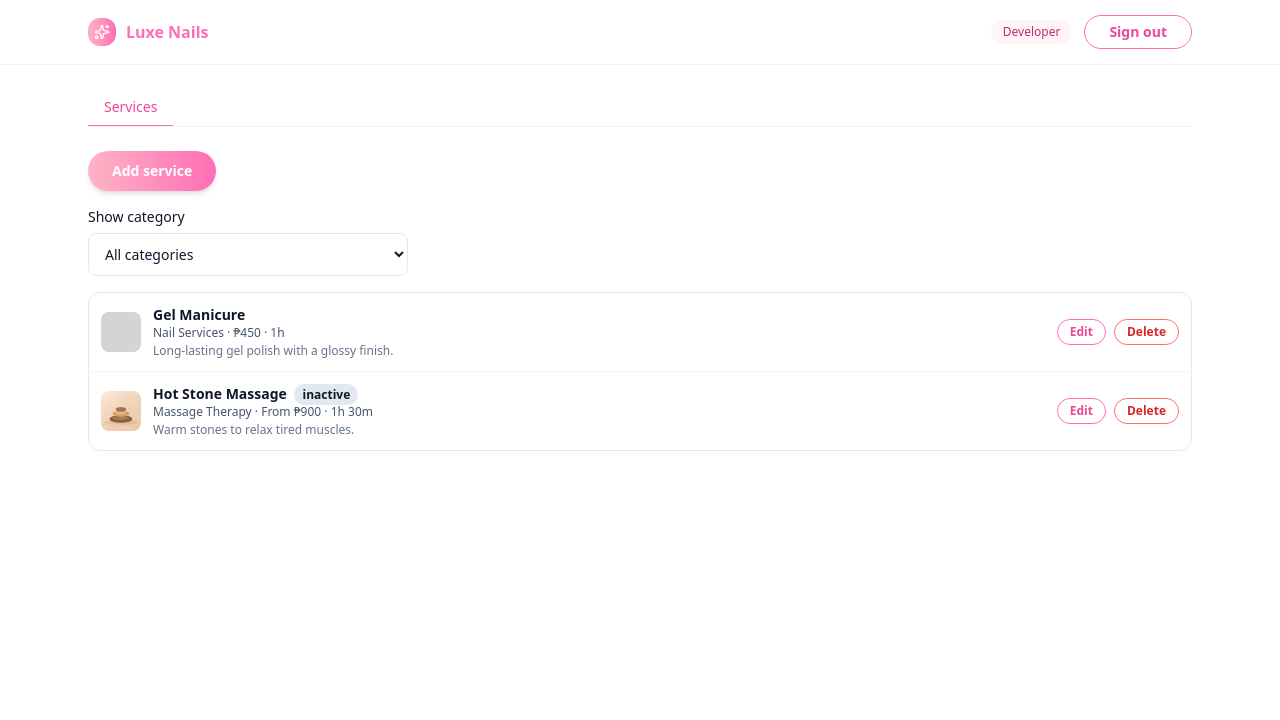
Scenario: developer › has Add, Edit and Delete, and the existing upload form
The image size is (1280, 720).
Expected: the text "Gel Manicure" is shown, [153,305,245,324]
Expected: the button "Add service" is shown, [88,151,216,191]
Click the button "Edit" in the row of "Gel Manicure".
click(1081, 332)  # box [1057,319,1106,345]
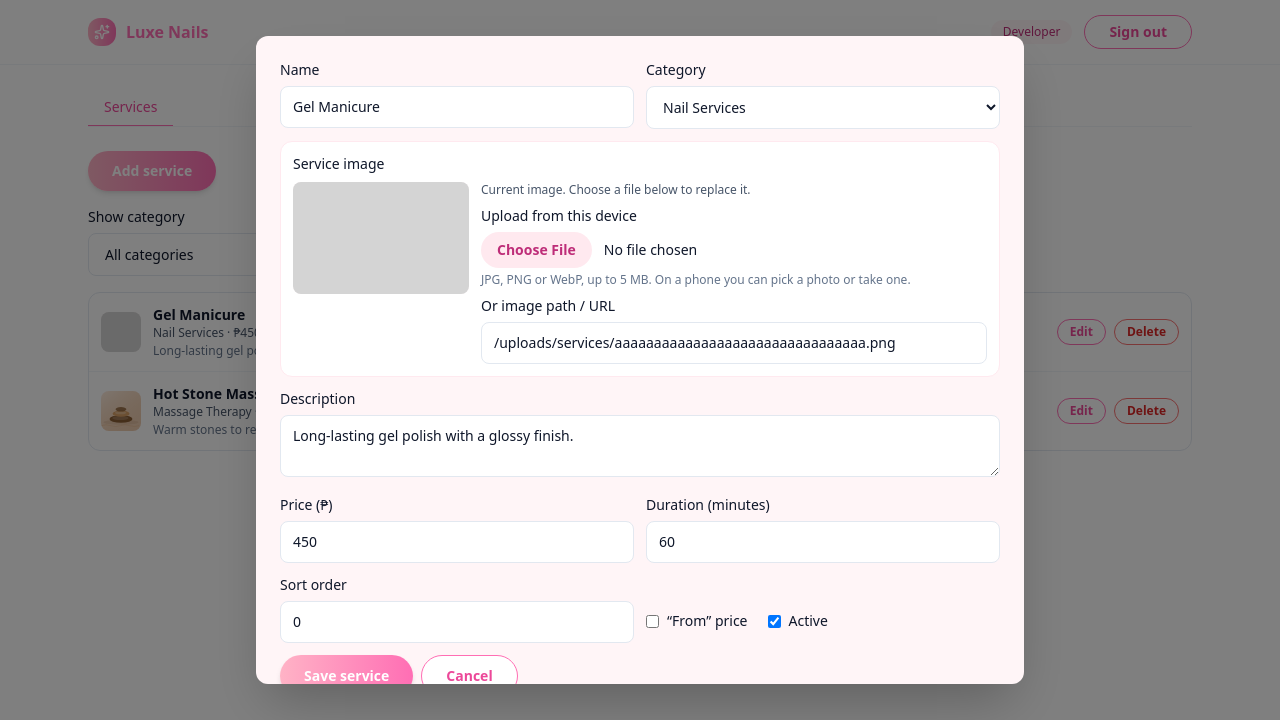
Now the file field labelled "Upload from this device" is shown, box [481,232,987,268]
